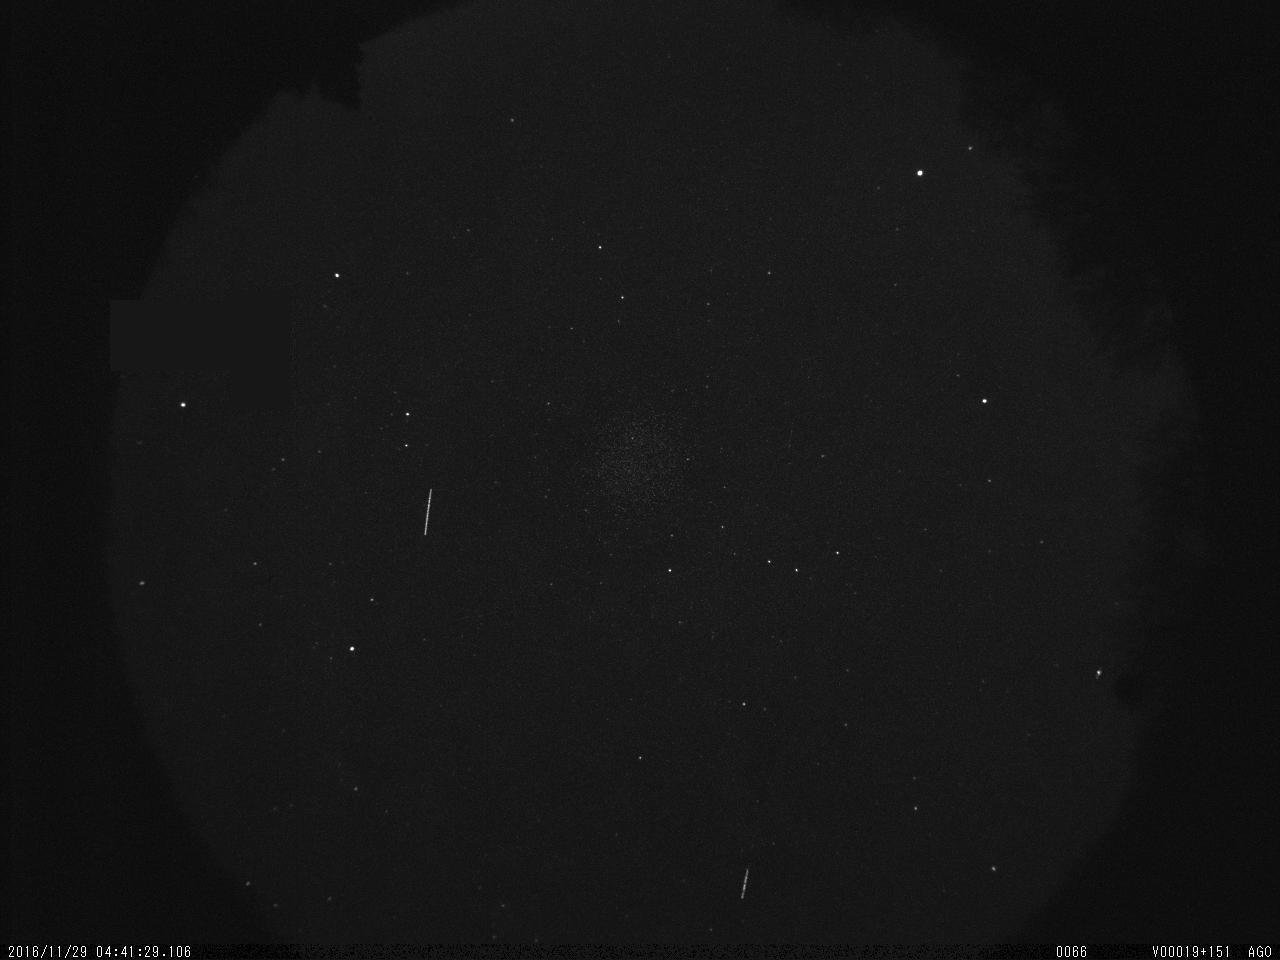meteor: (723, 852, 767, 914)
